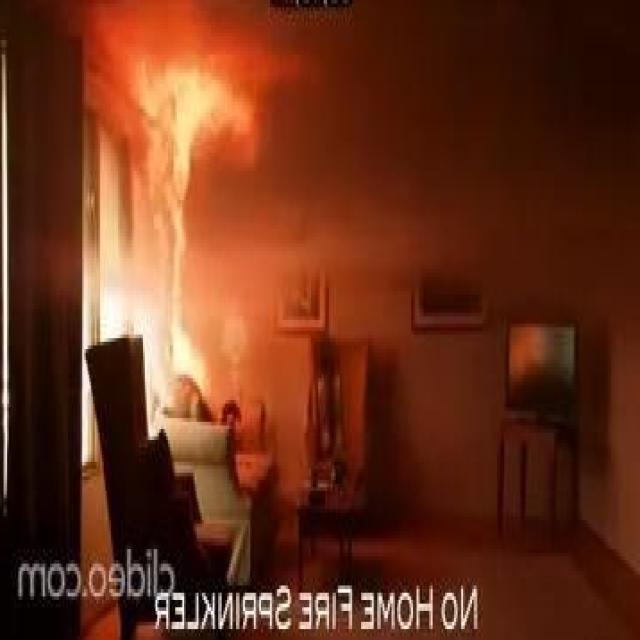smoke: (168, 62, 213, 374), (143, 64, 252, 188)
